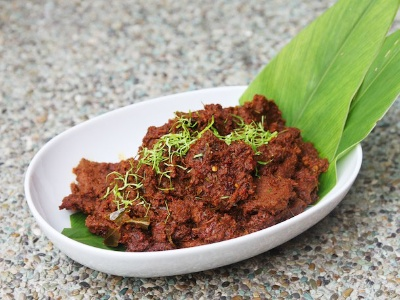rendang: (81, 107, 297, 232)
